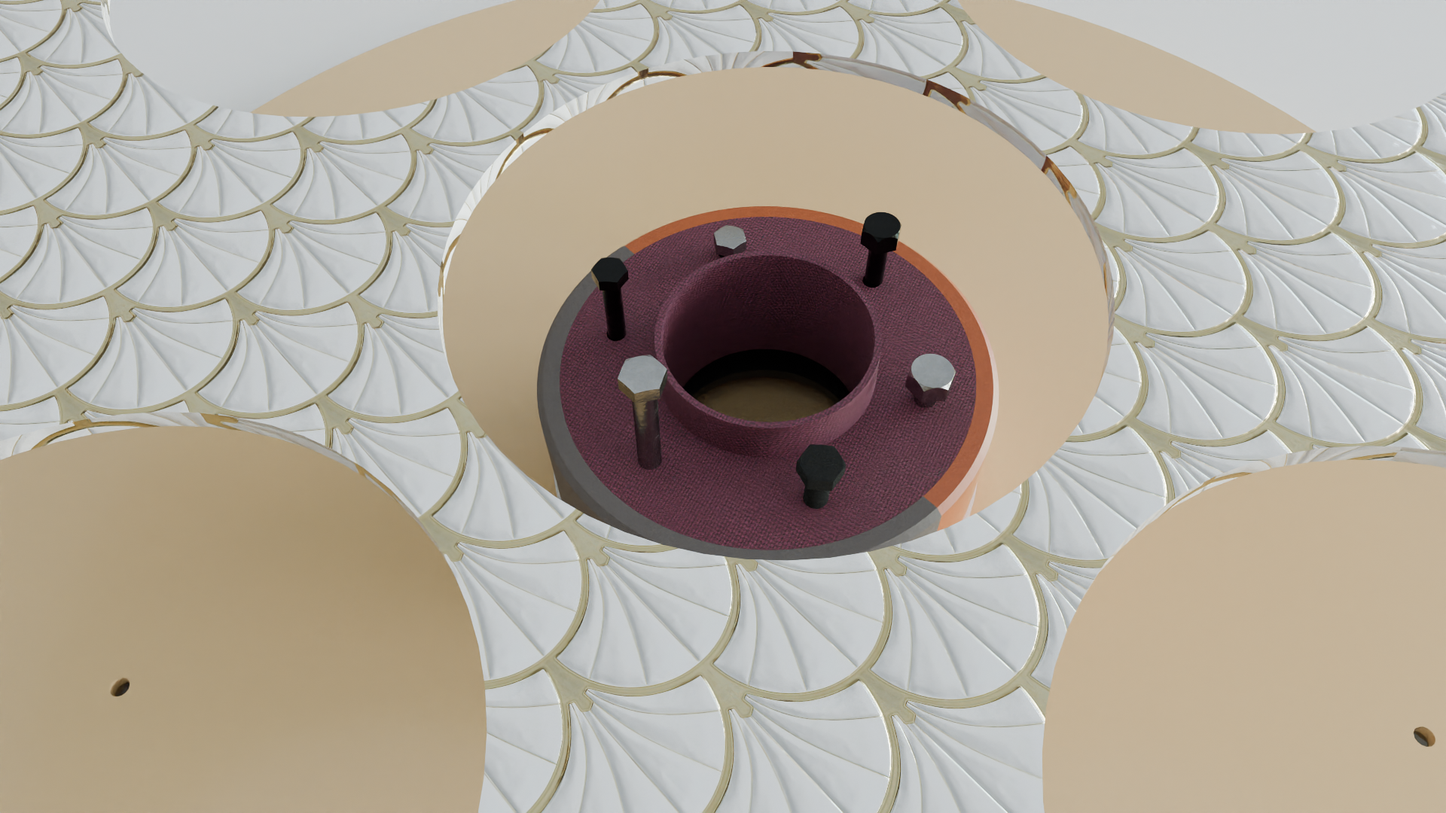bolt: (618, 355, 667, 394), (797, 444, 847, 482), (908, 354, 956, 391), (862, 212, 901, 242), (591, 257, 628, 282), (714, 225, 746, 249)
